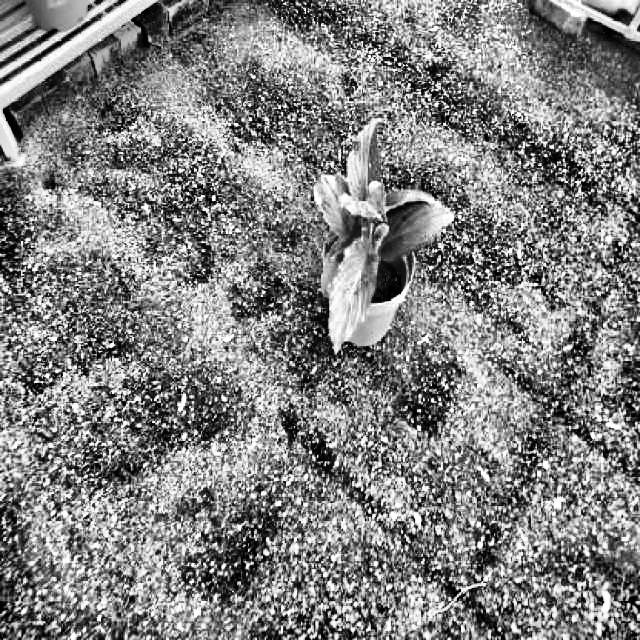plants: (314, 114, 452, 357)
